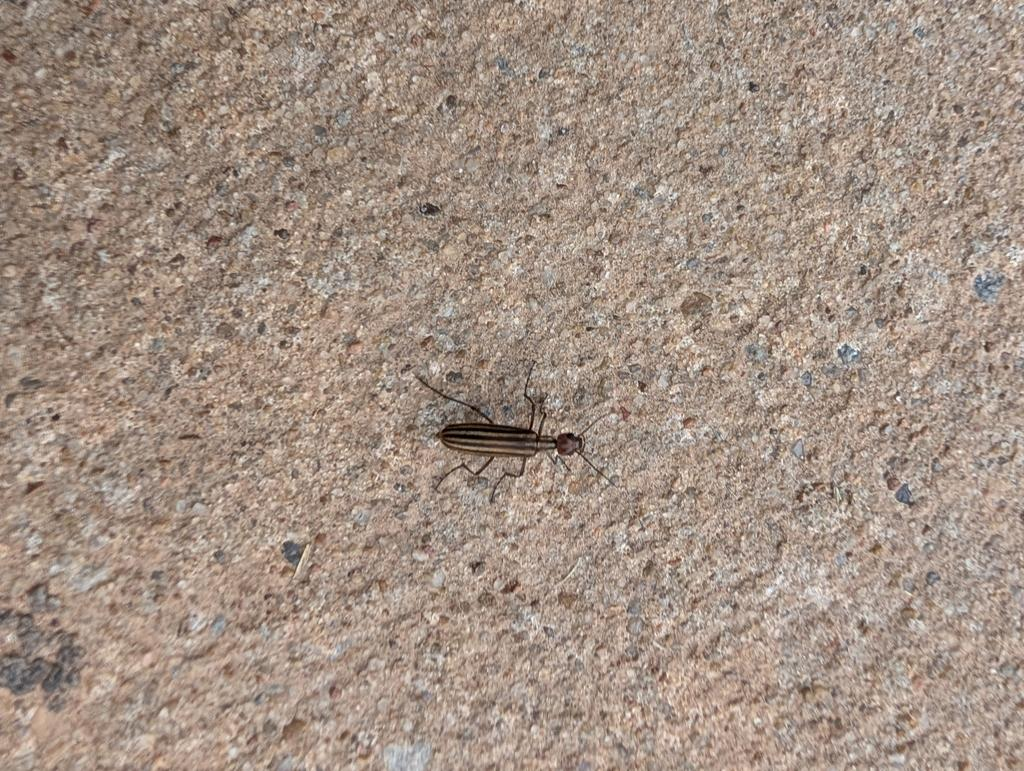blister_beetle: (393, 337, 631, 531)
